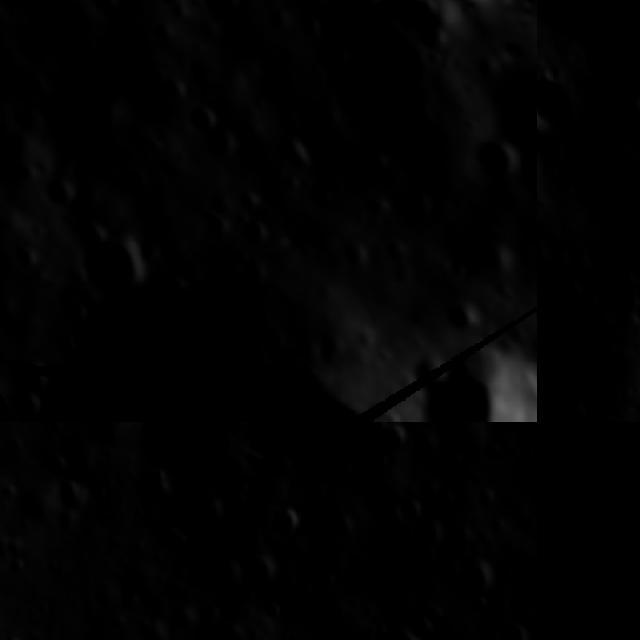crater: (285, 0, 474, 190), (391, 320, 537, 422), (50, 202, 170, 324), (537, 0, 640, 73), (292, 17, 368, 95), (460, 119, 527, 192), (121, 48, 183, 114), (0, 344, 61, 410), (167, 85, 230, 146), (194, 114, 252, 177), (537, 62, 588, 133), (265, 114, 322, 174), (42, 278, 99, 337), (434, 290, 487, 342), (26, 166, 80, 217), (450, 552, 500, 604), (314, 596, 361, 640), (233, 550, 282, 592), (408, 513, 448, 564), (269, 498, 311, 544), (322, 0, 396, 23), (159, 516, 194, 564), (57, 472, 96, 514), (245, 428, 288, 466), (198, 494, 232, 537), (189, 0, 246, 25), (85, 0, 132, 28), (375, 422, 411, 458), (486, 614, 533, 640), (344, 422, 387, 450), (377, 622, 428, 640), (317, 564, 341, 595)
